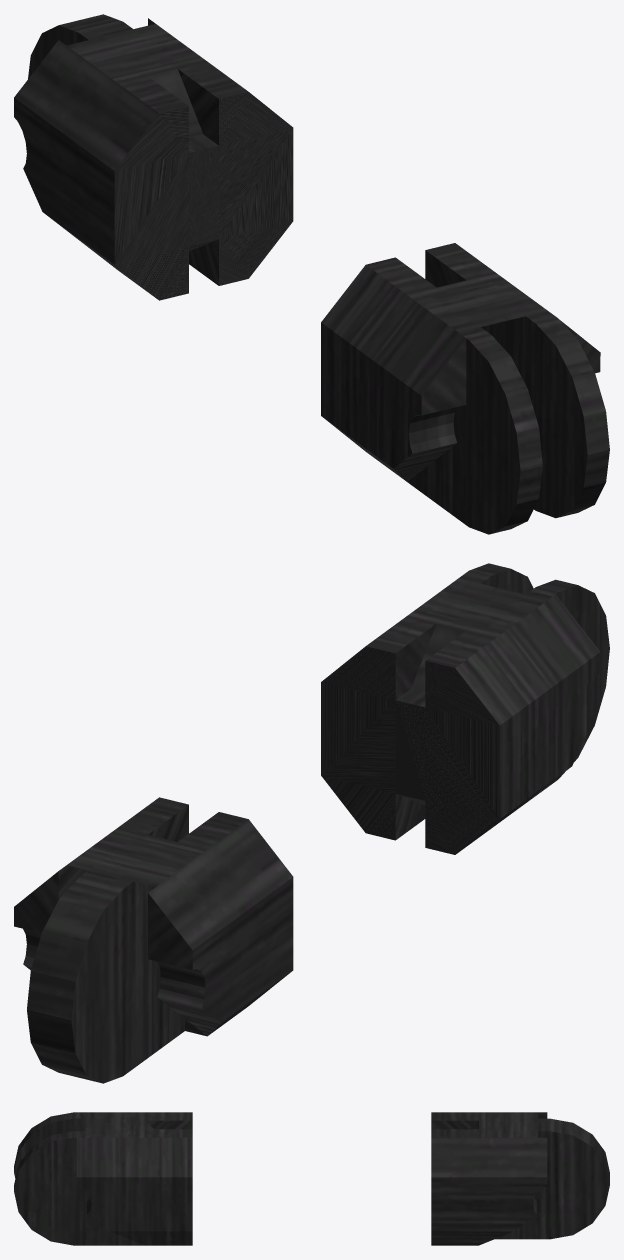
Rendered from patella.dae.
3 views of the same model, one above another, from view 1: azimuth 30°, elevation 25°; view 2: azimuth 150°, elevation 25°; view 3: azimuth 270°, elevation 25° (orthographic). The views are drawn at different scales.
Visible parts, largest first — view 1: Patella; view 2: Patella; view 3: Patella.
Boxes of the visible parts, x1,y1,x2,y2 form: Patella: [14, 14, 609, 534]; Patella: [14, 563, 609, 1083]; Patella: [14, 1112, 609, 1245].
Bounding box in the file's own units: 0.2 × 1 × 0.2.
Materials: 1 (1 with a texture image).
